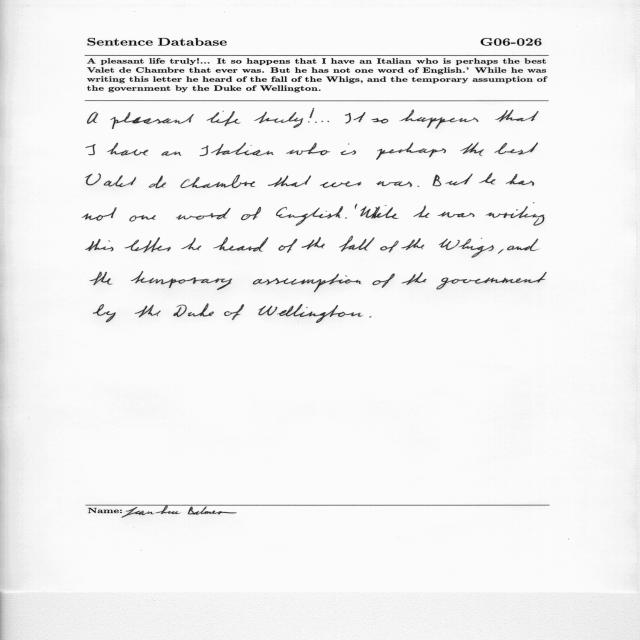word: (258, 304, 363, 323), (253, 274, 361, 292), (131, 271, 232, 290), (436, 272, 547, 289), (399, 110, 479, 129), (110, 112, 194, 129), (486, 203, 545, 226), (276, 206, 343, 226), (376, 143, 446, 160), (439, 238, 494, 258), (181, 175, 256, 188), (200, 143, 274, 156), (214, 237, 269, 252), (254, 112, 303, 128), (125, 237, 171, 253), (86, 173, 137, 187), (176, 208, 230, 220), (173, 303, 214, 317), (287, 143, 331, 156), (495, 109, 538, 122), (107, 143, 149, 156), (360, 205, 399, 219), (339, 236, 375, 251), (494, 143, 538, 155), (268, 175, 311, 187), (207, 111, 241, 126), (432, 174, 473, 186), (82, 207, 117, 221), (93, 304, 116, 322), (507, 239, 539, 251), (372, 273, 395, 288), (135, 305, 161, 318), (506, 174, 534, 186), (86, 239, 114, 251), (402, 272, 427, 285), (224, 304, 244, 320), (460, 143, 484, 156), (320, 181, 362, 188), (301, 237, 325, 249), (90, 272, 112, 285), (402, 238, 425, 250), (279, 239, 298, 253), (241, 207, 261, 220), (345, 112, 365, 124), (181, 238, 201, 250), (380, 241, 399, 253), (438, 212, 475, 218), (149, 176, 166, 189), (413, 205, 430, 218), (376, 181, 412, 187), (341, 143, 357, 155), (129, 215, 156, 222), (479, 173, 496, 184), (88, 112, 99, 124), (86, 144, 96, 155), (162, 151, 182, 156), (308, 108, 314, 123), (371, 118, 388, 123), (498, 249, 504, 254), (315, 121, 329, 123), (355, 204, 357, 210), (418, 185, 420, 187), (345, 217, 347, 219), (370, 316, 372, 317)
